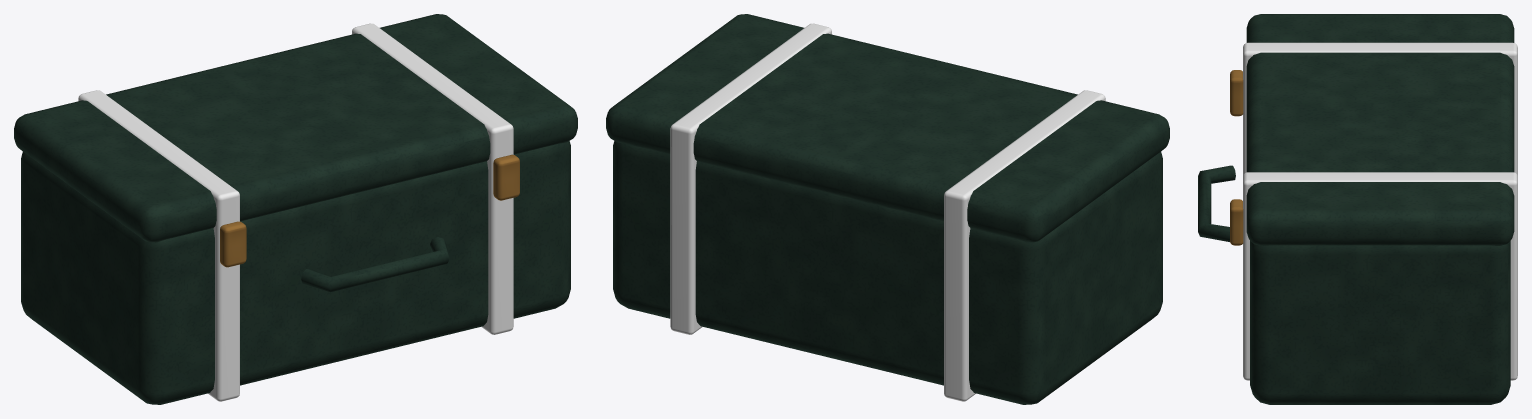
File: Suitcase.fbx
The picture shows the model from 3 angles, left to right: view 1: azimuth 30°, elevation 25°; view 2: azimuth 150°, elevation 25°; view 3: azimuth 270°, elevation 25°; orthographic projection. The views are drawn at different scales.
Visible parts, largest first — view 1: Suitcase_Leather, Suitcase_Walnut, Suitcase_Brass; view 2: Suitcase_Leather, Suitcase_Walnut; view 3: Suitcase_Leather, Suitcase_Walnut, Suitcase_Brass.
Part boxes in pixels (left/top/right/bottom): Suitcase_Leather: left=14, top=14, right=577, bottom=404; Suitcase_Walnut: left=78, top=23, right=513, bottom=401; Suitcase_Brass: left=220, top=154, right=519, bottom=267; Suitcase_Leather: left=606, top=14, right=1169, bottom=404; Suitcase_Walnut: left=670, top=23, right=1105, bottom=401; Suitcase_Leather: left=1198, top=14, right=1514, bottom=404; Suitcase_Walnut: left=1243, top=42, right=1517, bottom=380; Suitcase_Brass: left=1230, top=70, right=1243, bottom=245.
Bounding box in the file's own units: 86.2 × 39 × 56.41.
